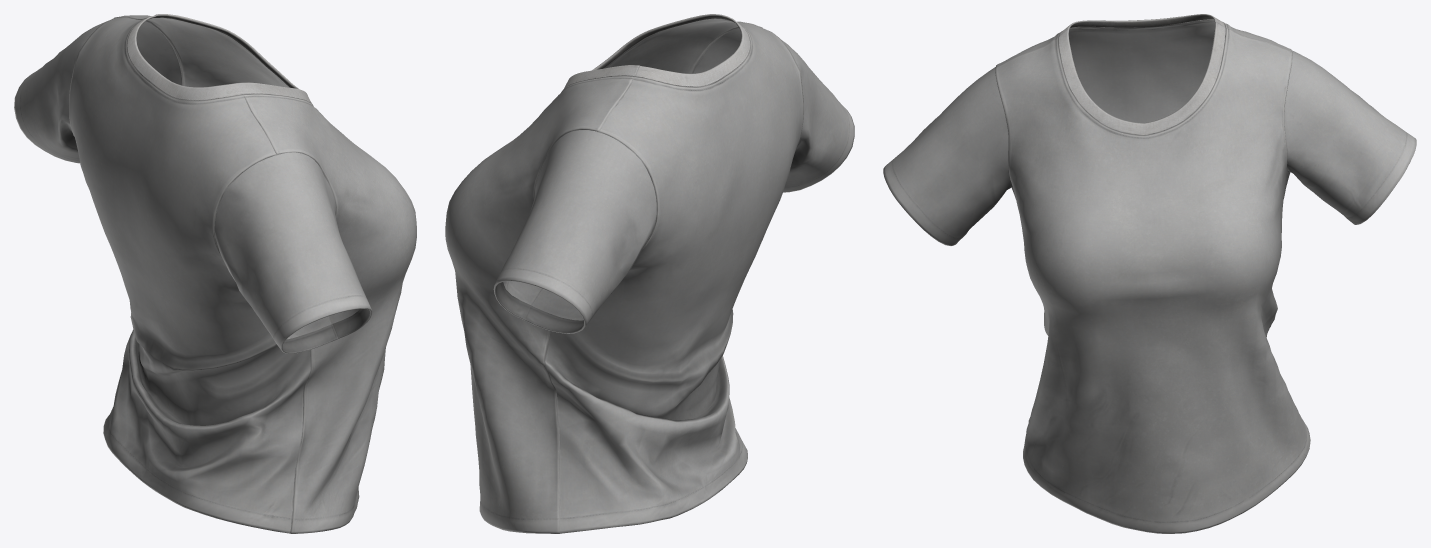
Rendered from female_tshirt.glb.
3 views of the same model, side by side, from view 1: azimuth 30°, elevation 25°; view 2: azimuth 150°, elevation 25°; view 3: azimuth 270°, elevation 25° (orthographic). The views are drawn at different scales.
Parts seen in each view (by area): view 1: Object_2; view 2: Object_2; view 3: Object_2.
Part boxes in pixels (x1=…): Object_2: x1=14, y1=14, x2=416, y2=533; Object_2: x1=445, y1=14, x2=854, y2=533; Object_2: x1=883, y1=14, x2=1416, y2=533.
Size of the model in its own units: 0.5167 by 0.9326 by 1.03.
1 material, 1 textured.
